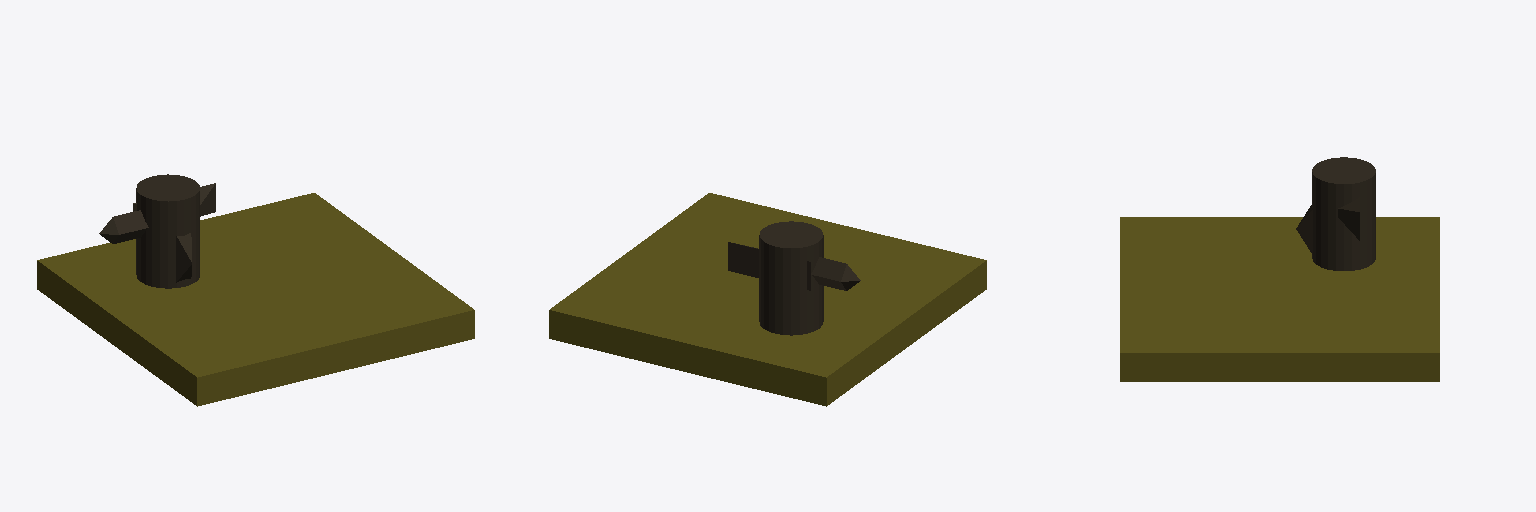
Rendered from deadTreeTile1.obj.
3 views of the same model, side by side, from view 1: azimuth 30°, elevation 25°; view 2: azimuth 150°, elevation 25°; view 3: azimuth 270°, elevation 25° (orthographic).
Size of the model in its own units: 1 by 0.4 by 1.